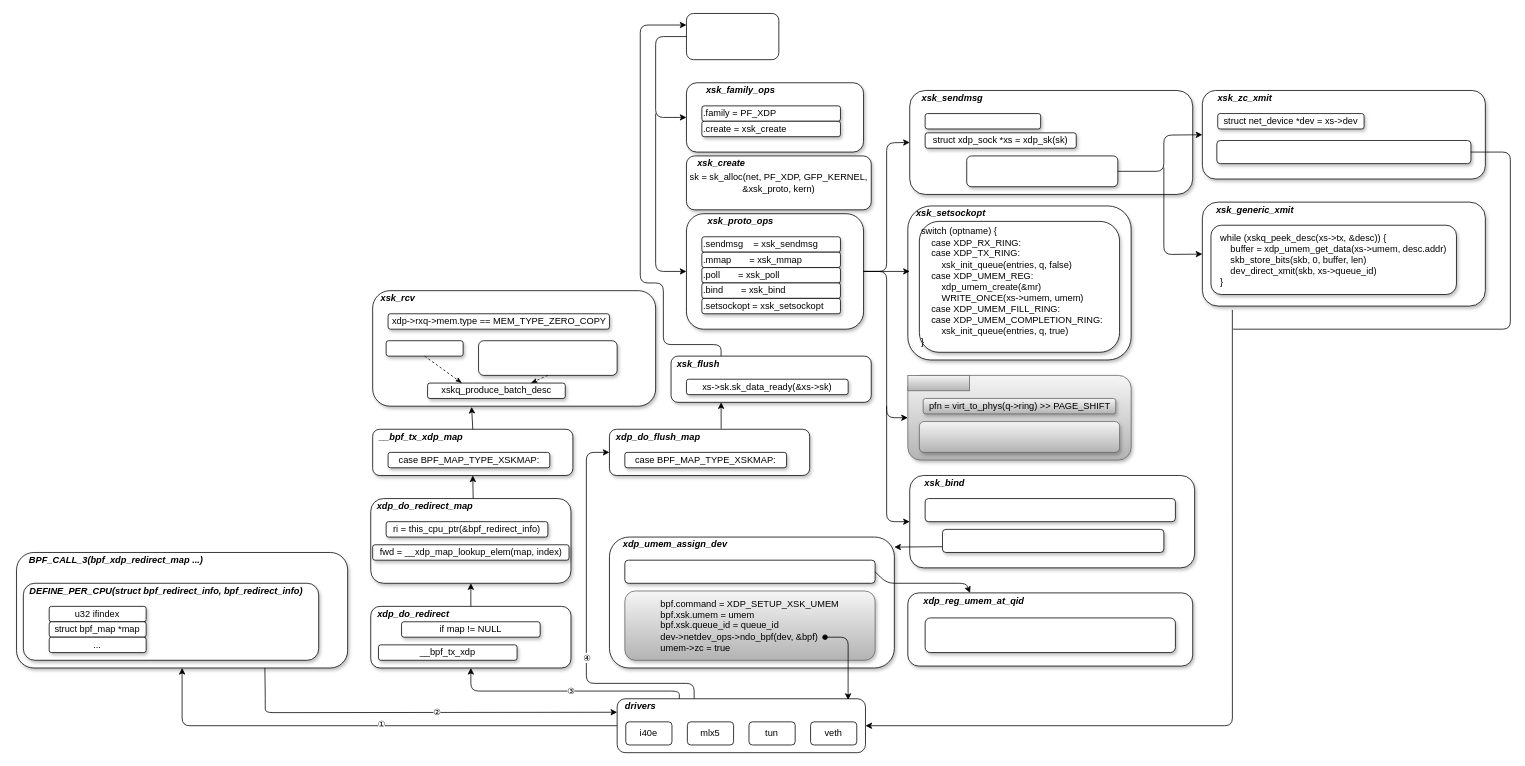
The diagram is 1525 pixels wide and 766 high, and some of its shapes have lost their labels. The shapes that lost their labels are listed below. From the top down, each one's centre as x and y in pixels, then its label:
At (732,36): "user process".
At (983,122): "struct sock *sk = sock->sk".
At (1042,172): "xs->zc ? xsk_zc_xmit(sk) : xsk_generic_xmit(sk, m,total_len)".
At (1344,153): "dev->netdev_ops->ndo_xsk_wakeup(dev, xs->queue_id)".
At (425,349): "__xsk_rcv_zc".
At (548,359): "__xsk_rcv __xsk_rcv_memcpy".
At (938,383): "xsk_mmap".
At (1020,438): "remap_pfn_range(vma, vma->vm_start, pfn, size, vma->vm_page_prot".
At (1050,511): "dev = dev_get_by_index(sock_net(sk), sxdp->sxdp_ifindex)".
At (1053,542): "xdp_umem_assign_dev(xs->umem, dev, qid, flags)".
At (750,572): "xdp_reg_umem_at_qid(dev, umem, queue_id)".
At (1050,636): "dev->_rx[queue_id].umem = umem dev->_tx[queue_id].umem = umem".
